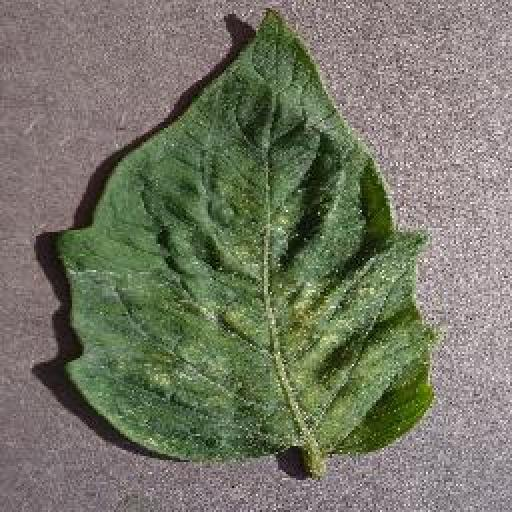Spider Mites: (57, 6, 435, 462)
